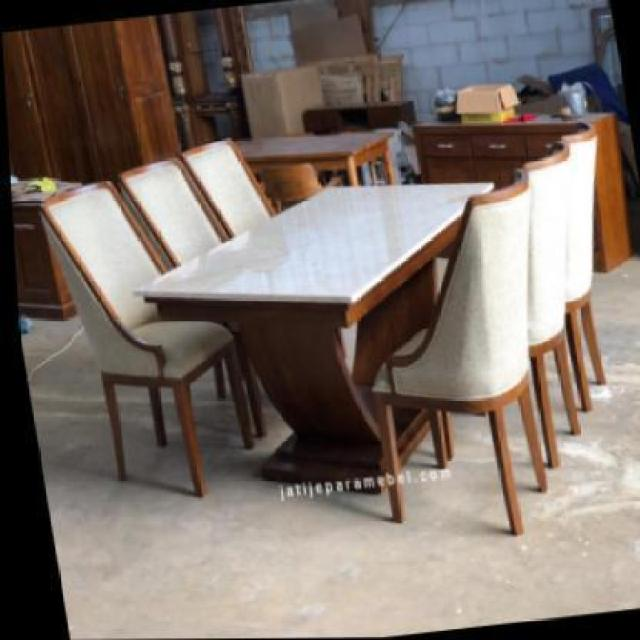tables: (132, 180, 496, 489)
